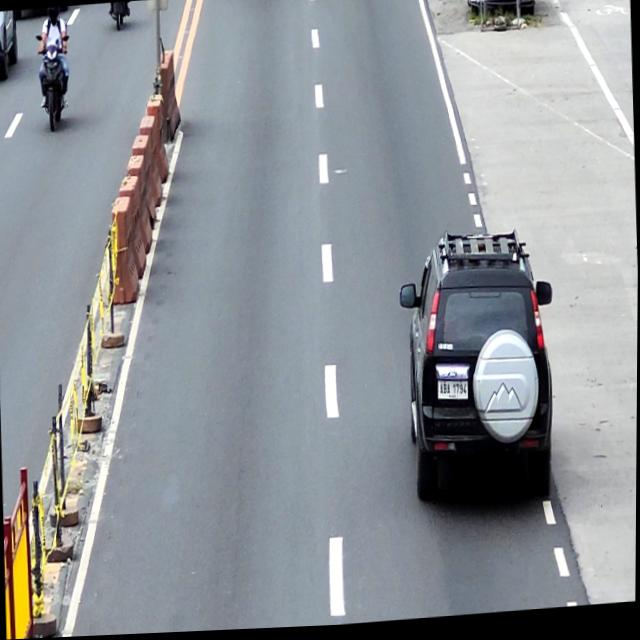Car: (396, 229, 560, 514), (0, 9, 19, 84)
License-Plate: (438, 383, 469, 406)
Motorcycle: (34, 29, 72, 134)
